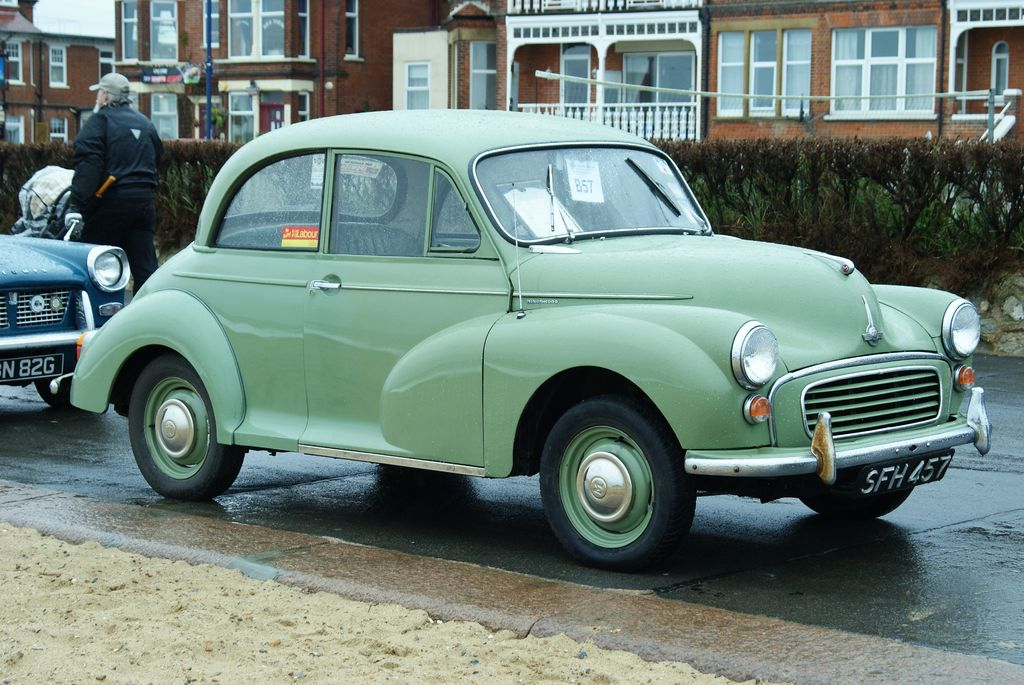Car: (70, 108, 992, 567), (0, 234, 130, 406)
